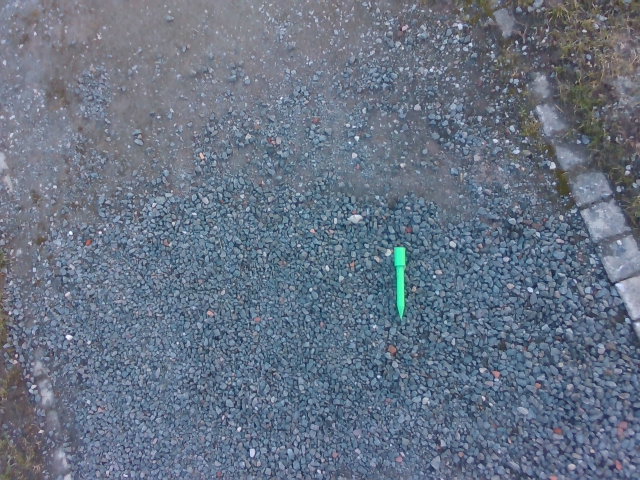Probe: (391, 242, 408, 324)
